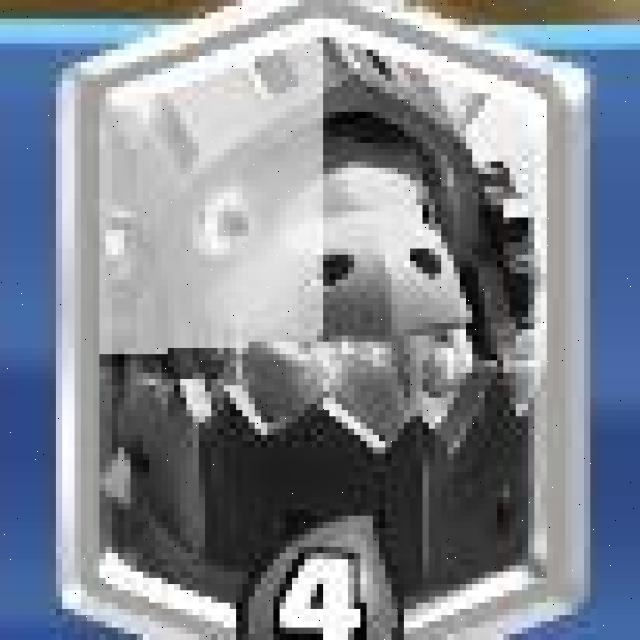Inferno_Dragon: (56, 0, 588, 640)
